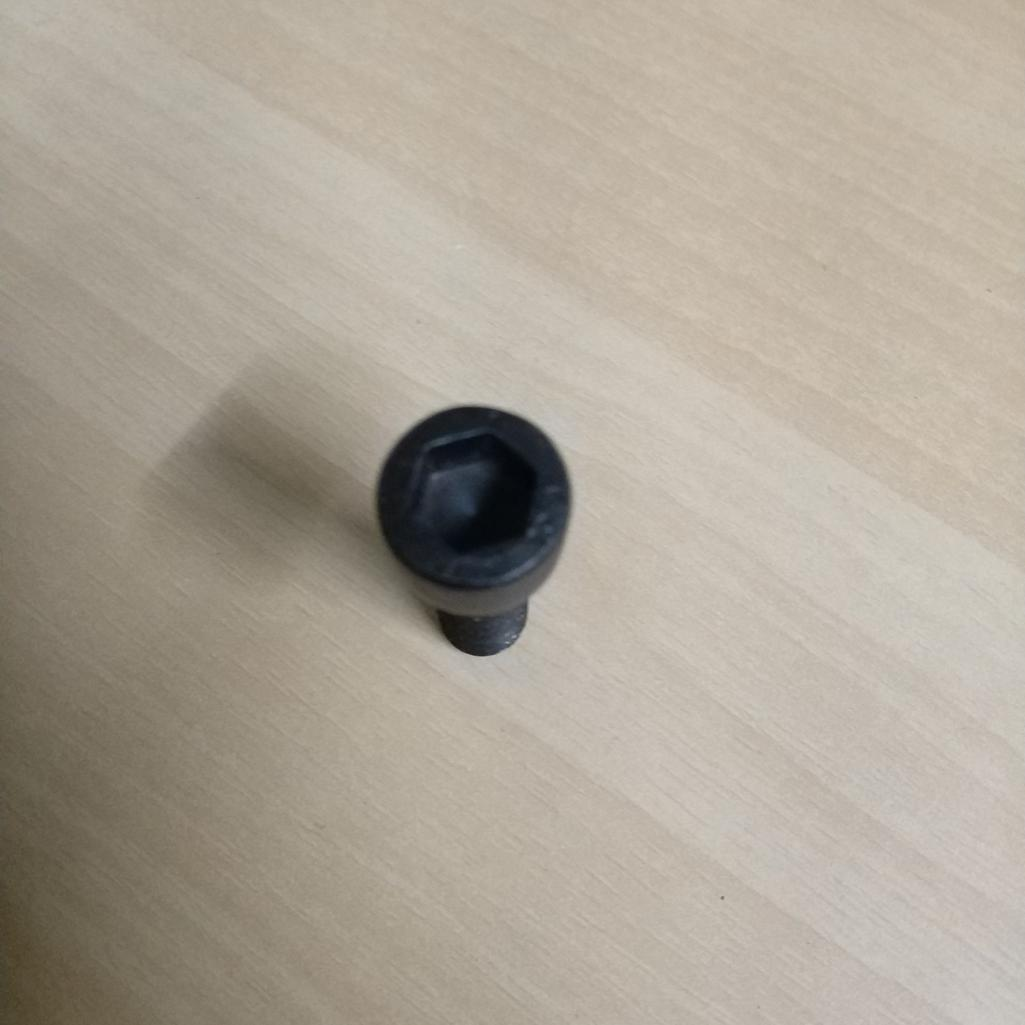screwtype1black: (347, 403, 574, 657)
